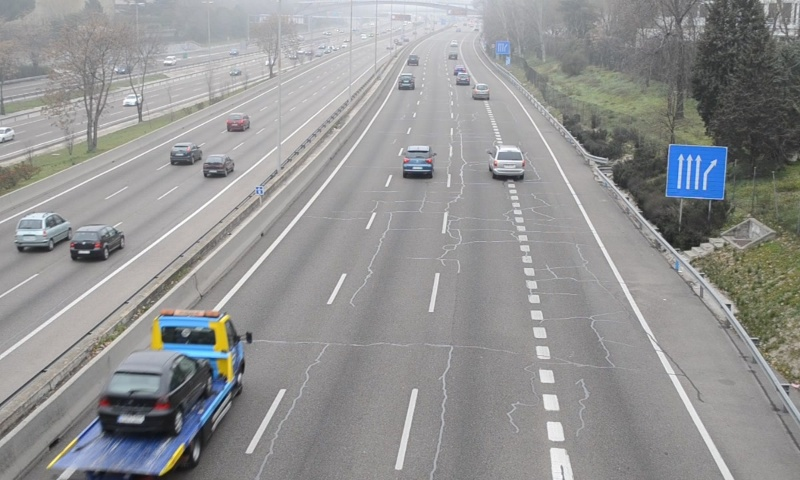car: (490, 144, 525, 178), (402, 146, 433, 176), (397, 72, 415, 91), (472, 82, 490, 100)
small-truck: (44, 310, 242, 472)
